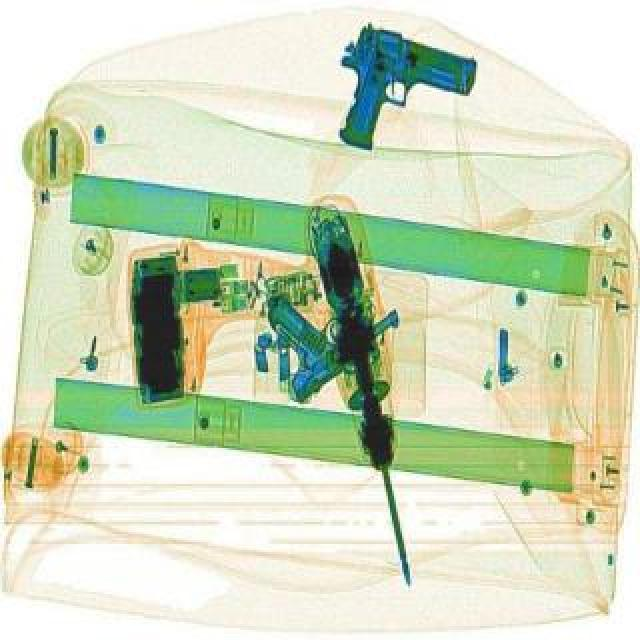gun: (228, 244, 408, 404), (312, 18, 484, 172)
